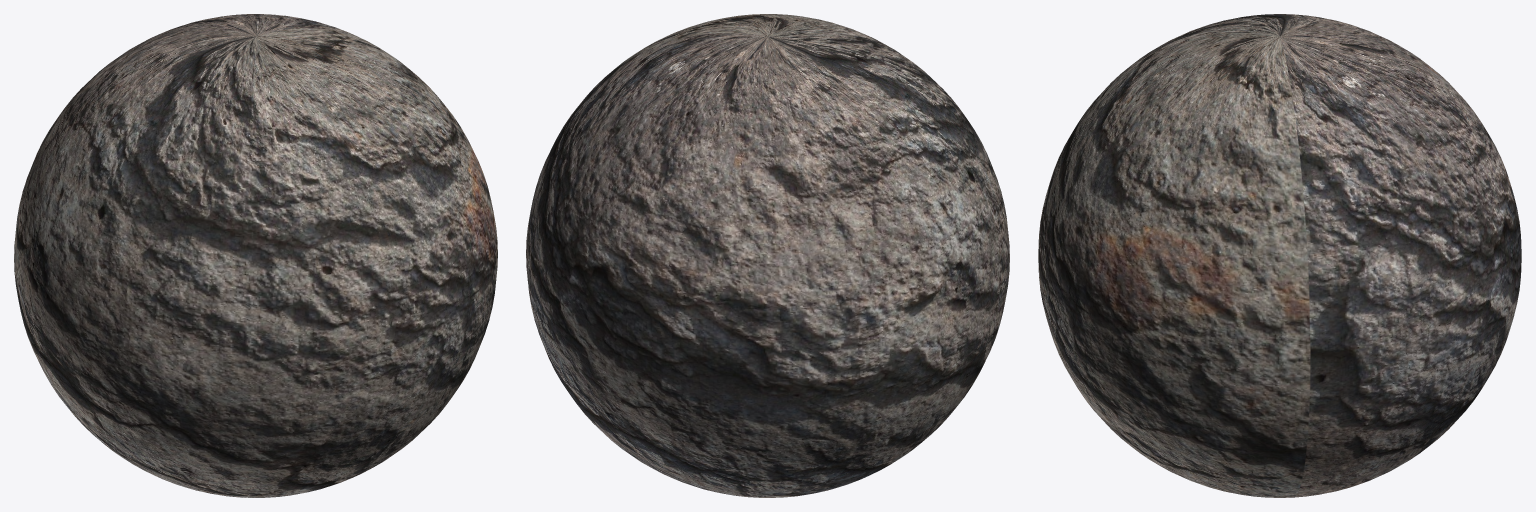
File: Boulder.fbx
3 views of the same model, side by side, from view 1: azimuth 30°, elevation 25°; view 2: azimuth 150°, elevation 25°; view 3: azimuth 270°, elevation 25° (orthographic).
Parts seen in each view (by area): view 1: pSphere1; view 2: pSphere1; view 3: pSphere1.
Boxes of the visible parts, <box> form: pSphere1: <box>14,14,497,497</box>; pSphere1: <box>526,14,1009,497</box>; pSphere1: <box>1038,14,1521,497</box>.
Bounding box in the file's own units: 11.34 × 11.34 × 11.32.
Materials: 1 (1 with a texture image).
